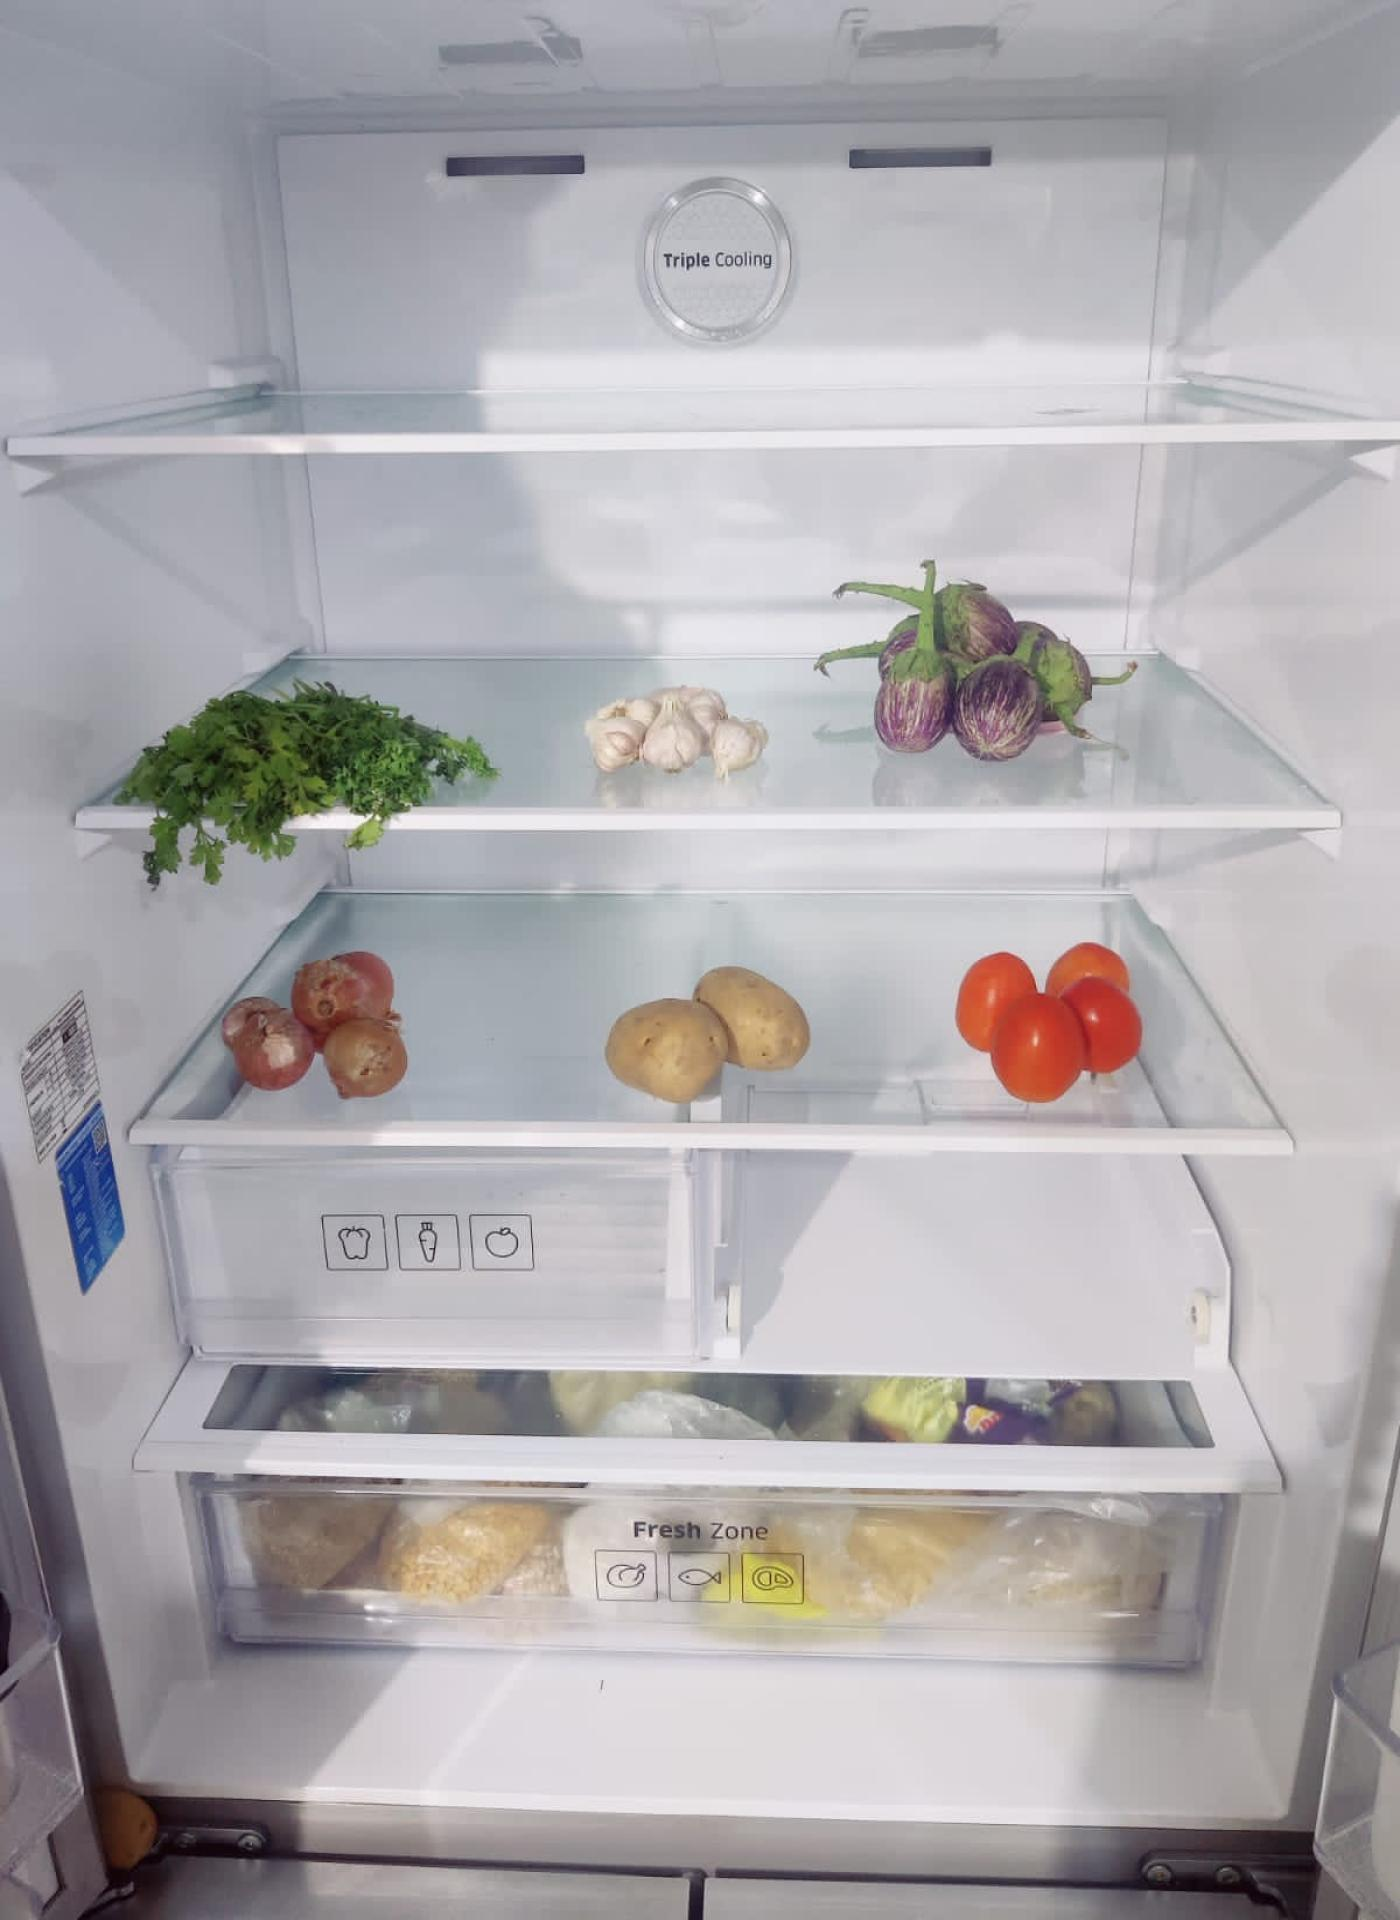brinjal: (872, 580, 1087, 759)
coriander: (125, 677, 492, 839)
garlic: (586, 674, 769, 769)
onion: (227, 953, 413, 1096)
potato: (602, 966, 811, 1103)
tomato: (951, 945, 1144, 1106)
